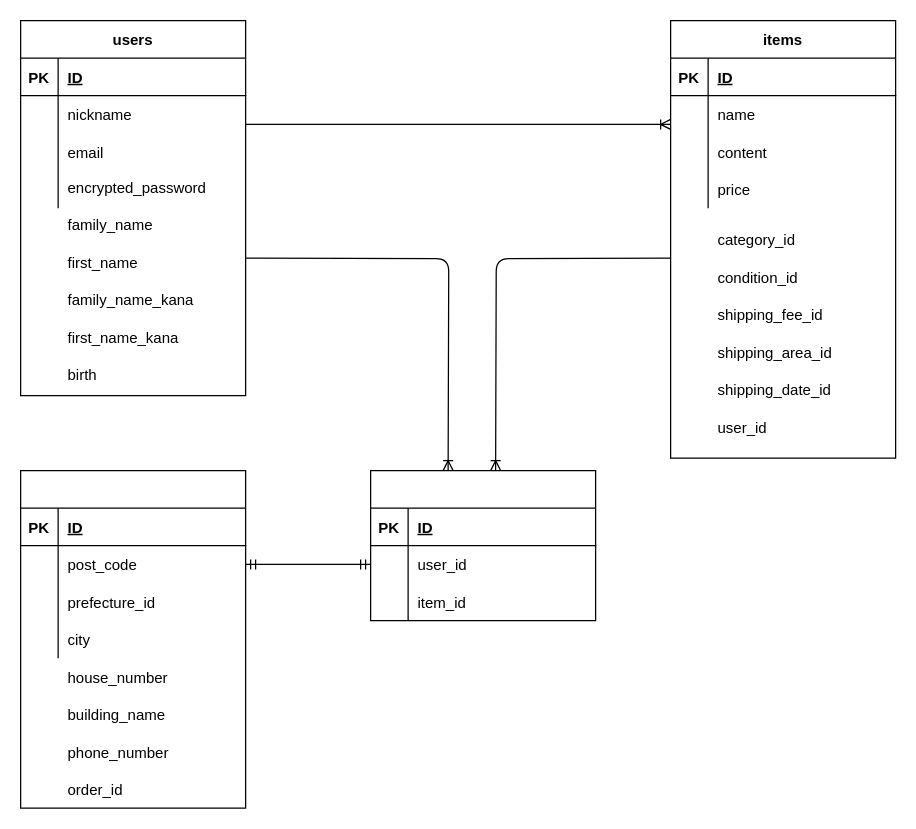
The diagram is 916 pixels wide and 829 high, and some of its shapes have lost their labels. The box of each missing label's shape, as (x1, y1, x2, y2) in pixels:
addresses: (19, 469, 246, 808)
orders: (369, 469, 596, 621)
